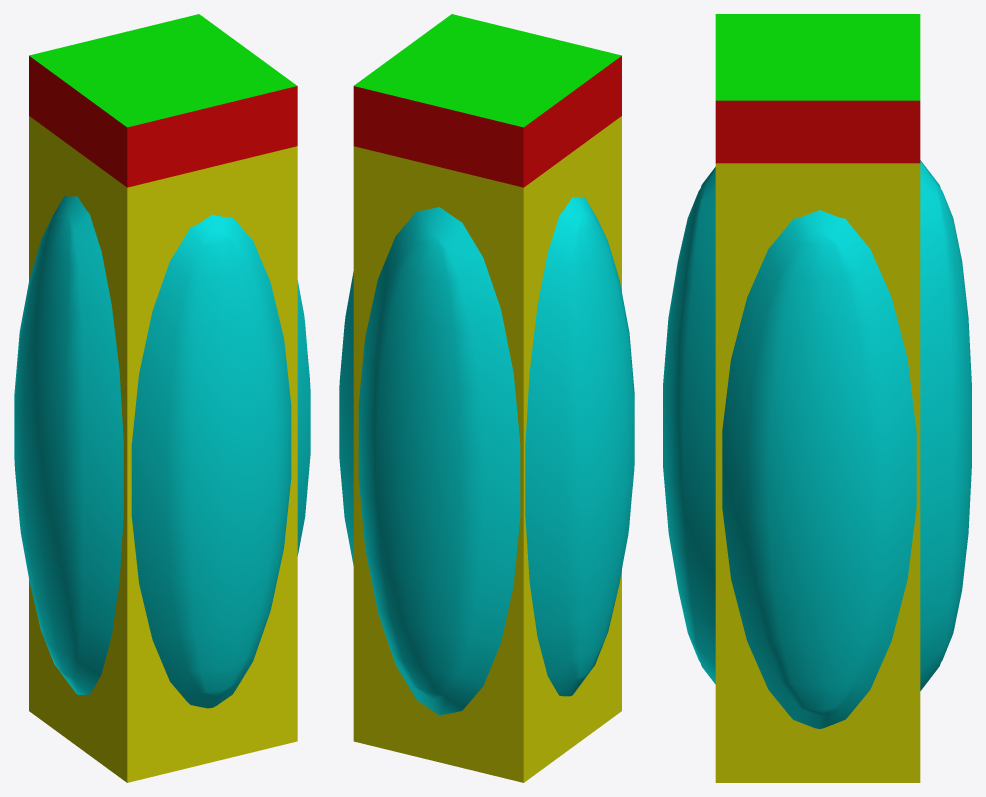
Rendered from Velocita_Building.fbx.
3 views of the same model, side by side, from view 1: azimuth 30°, elevation 25°; view 2: azimuth 150°, elevation 25°; view 3: azimuth 270°, elevation 25° (orthographic). The views are drawn at different scales.
Parts seen in each view (by area): view 1: polySurface2, polySurface5, polySurface4, polySurface3; view 2: polySurface2, polySurface1, polySurface4, polySurface3; view 3: polySurface2, polySurface3, polySurface1, polySurface5.
Part boxes in pixels (<box>): polySurface2: <box>29,14,297,782</box>; polySurface5: <box>131,214,291,708</box>; polySurface4: <box>14,195,123,694</box>; polySurface3: <box>297,280,310,555</box>; polySurface2: <box>353,14,621,782</box>; polySurface1: <box>358,207,520,715</box>; polySurface4: <box>525,197,634,696</box>; polySurface3: <box>339,271,353,565</box>; polySurface2: <box>715,14,920,782</box>; polySurface3: <box>722,210,916,728</box>; polySurface1: <box>920,160,971,690</box>; polySurface5: <box>663,167,715,684</box>.
Bounding box in the file's own units: 2295 × 5517 × 2262.
